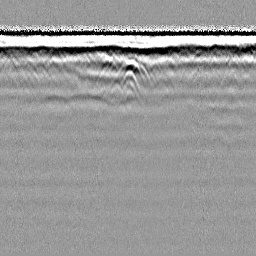cavity: (115, 58, 145, 80)
